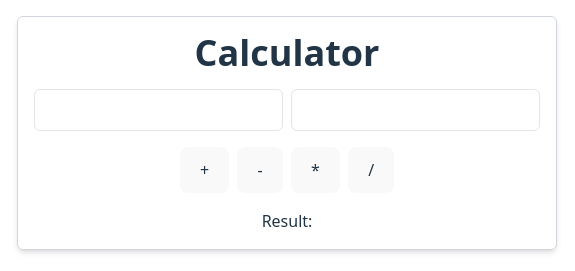
Test: HomePage Calculator › adds two numbers correctly
Type "10" into the 1st field at (158, 110), box [34,89,283,131]
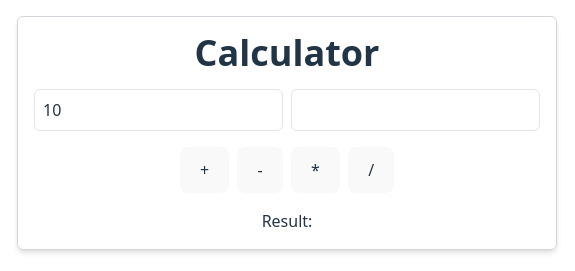
Type "5" into the 2nd field at (416, 110), box [291,89,540,131]
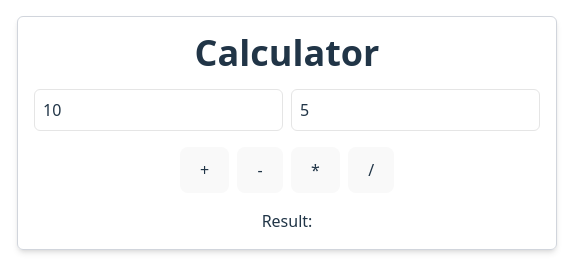
Click the button "+" at (204, 170), box [180,147,229,193]
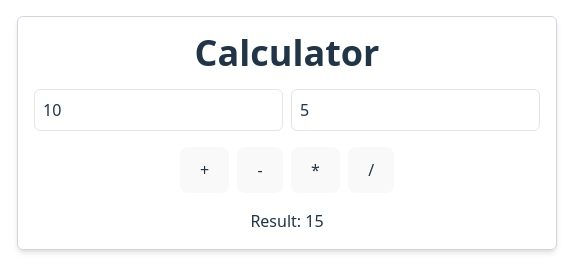
Now the text "Result: 15" is shown, box [250,209,324,233]
